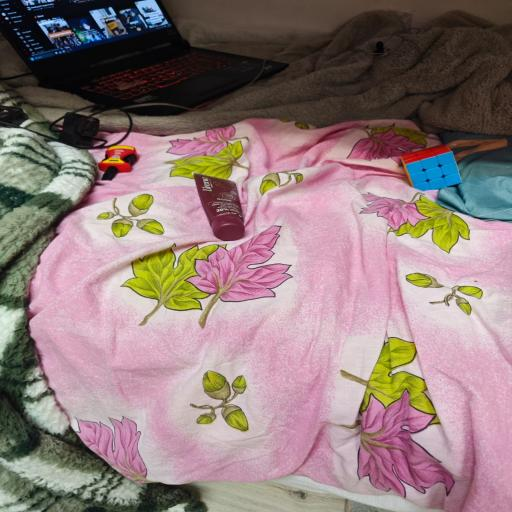Crema Maini: (192, 170, 250, 242)
Rubiks Cube: (395, 144, 462, 192)
Super Glue: (97, 143, 139, 186)
